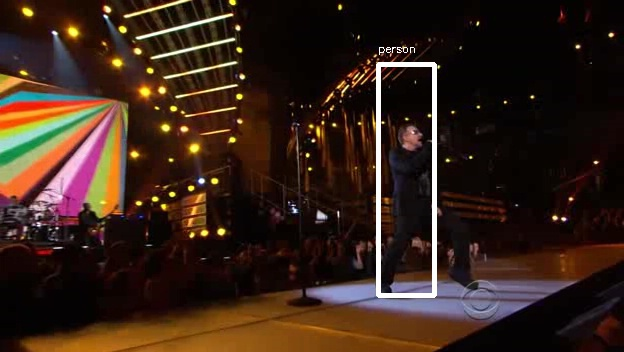person: (387, 129, 450, 244), (384, 129, 447, 244), (390, 129, 453, 244), (387, 126, 450, 241), (387, 132, 450, 247)
target_negative: (228, 77, 547, 261), (268, 107, 406, 289), (122, 264, 239, 291), (25, 203, 55, 302), (593, 275, 604, 340), (585, 251, 615, 274)
